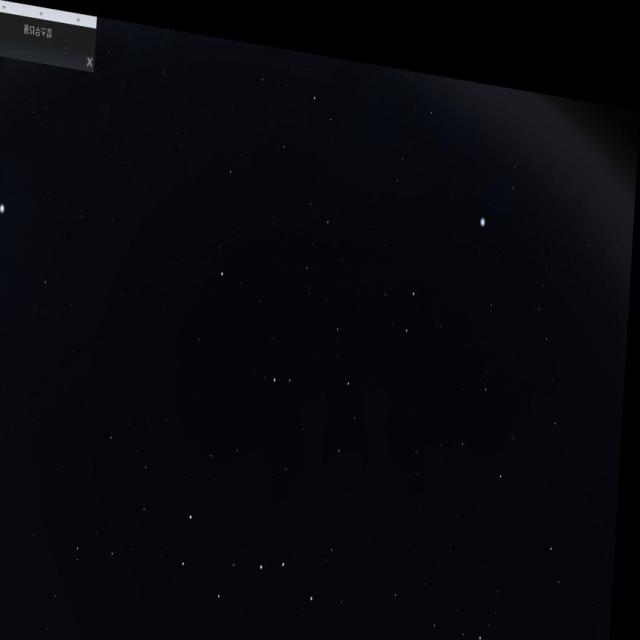lyra: (466, 112, 532, 234)
ursa_major: (182, 490, 328, 630)
